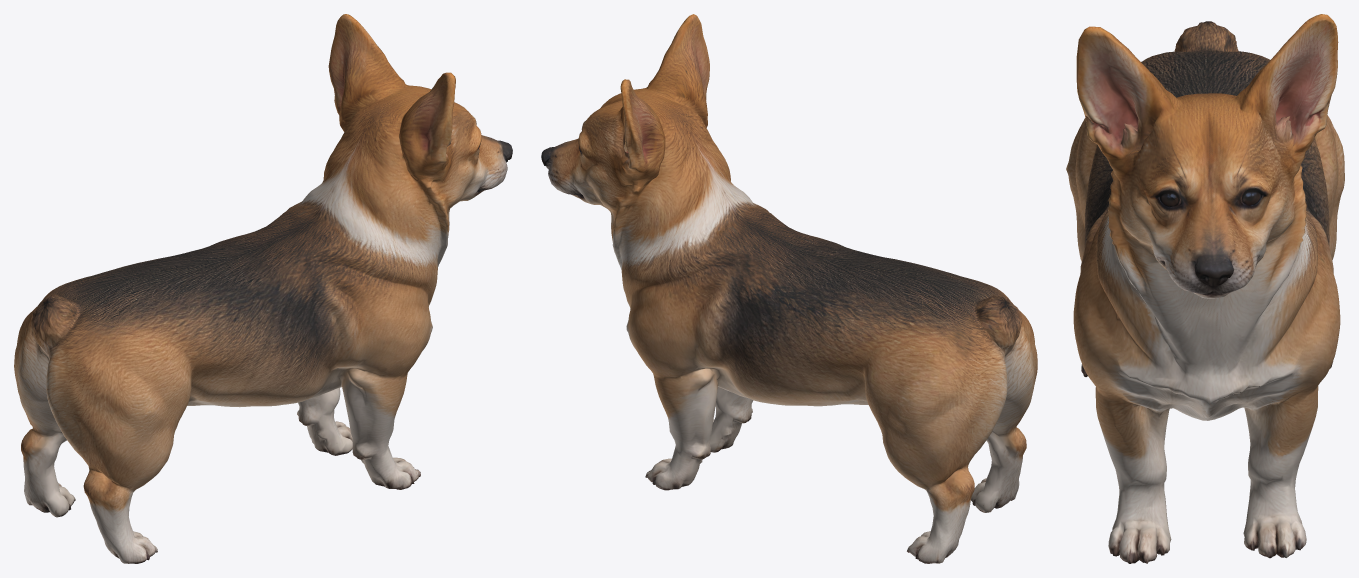
Rendered from ttogi.glb.
The picture shows the model from 3 angles, left to right: view 1: azimuth 30°, elevation 25°; view 2: azimuth 150°, elevation 25°; view 3: azimuth 270°, elevation 25°; orthographic projection. The views are drawn at different scales.
Visible parts, largest first — view 1: tripo_node_0e5dd3dc-f737-4988-9f97-715901b10806; view 2: tripo_node_0e5dd3dc-f737-4988-9f97-715901b10806; view 3: tripo_node_0e5dd3dc-f737-4988-9f97-715901b10806.
Part boxes in pixels (bbox=[...]): tripo_node_0e5dd3dc-f737-4988-9f97-715901b10806: bbox=[14, 14, 512, 563]; tripo_node_0e5dd3dc-f737-4988-9f97-715901b10806: bbox=[541, 14, 1037, 563]; tripo_node_0e5dd3dc-f737-4988-9f97-715901b10806: bbox=[1066, 14, 1344, 563].
Size of the model in its own units: 1 by 0.822 by 0.3759.
Materials: 1 (1 with a texture image).
